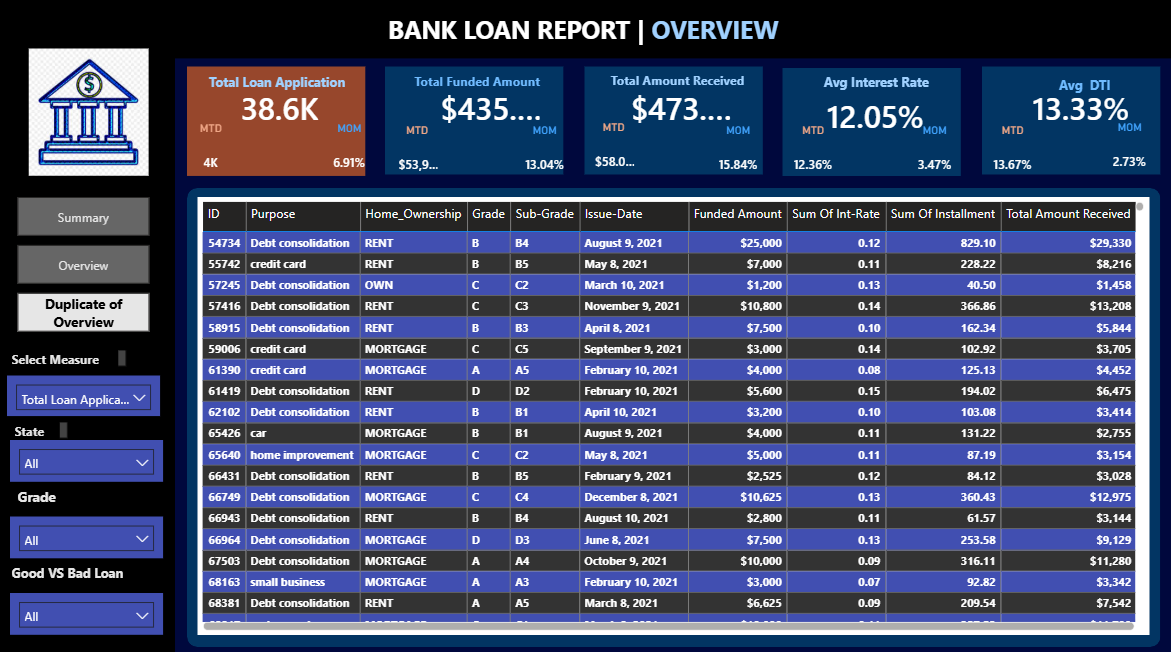

Layout of this report page (visuals, bound fields, positions):
{"tool":"powerbi","page":{"name":"Overview","canvas":[1280,720],"ordinal":1},"visuals":[{"type":"shape","box":[204.9,73.2,193.6,118.7],"z":0},{"type":"shape","box":[0,0,1279.4,54.8],"z":1000},{"type":"shape","box":[0.6,10,1279.4,54.8],"z":2000},{"type":"cardVisual","fields":{"Data":["Financial_Loan_Project.Total Loan Application"]},"box":[215.4,79.4,181.4,75.6],"z":3000},{"type":"shape","box":[0,55.3,191.9,665.3],"z":4000},{"type":"textbox","box":[417.6,9.4,447.9,54.8],"z":5000},{"type":"textbox","box":[207.9,75.6,189,41.6],"z":6000},{"type":"cardVisual","title":"MTD","fields":{"Data":["Financial_Loan_Project.MTD Loan Application"]},"box":[193.6,133.4,74.8,71.6],"z":7000},{"type":"cardVisual","title":"MOM","fields":{"Data":["Financial_Loan_Project.MOM Loan Application"]},"box":[319.4,134.2,124.7,71.8],"z":8000},{"type":"shape","box":[420.5,73.2,193.6,117.1],"z":9000},{"type":"textbox","box":[422.9,74.8,193.6,35.8],"z":10000},{"type":"cardVisual","fields":{"Data":["Financial_Loan_Project.Total Funded Amount"]},"box":[444,79.7,172.4,74.8],"z":11000},{"type":"cardVisual","title":"MTD","fields":{"Data":["Financial_Loan_Project.MTD Funded Amount"]},"box":[403.4,135,102.5,71.6],"z":12000},{"type":"cardVisual","title":"MOM","fields":{"Data":["Financial_Loan_Project.MOM Total Funded Amount"]},"box":[530.3,135,125.2,71.6],"z":13000},{"type":"shape","box":[636,73.2,193.6,117.1],"z":14000},{"type":"textbox","box":[640.9,73.2,191.9,30.9],"z":15000},{"type":"cardVisual","fields":{"Data":["Financial_Loan_Project.Total Amount Received"]},"box":[650.6,79.7,172.4,74.8],"z":16000},{"type":"cardVisual","title":"MTD","fields":{"Data":["Financial_Loan_Project.MTD Total Amount Received"]},"box":[616.5,131.8,102.5,71.6],"z":17000},{"type":"cardVisual","title":"MOM","fields":{"Data":["Financial_Loan_Project.MOM Total Amount Received"]},"box":[740.1,135,125.2,71.6],"z":18000},{"type":"shape","box":[851.5,74.8,193.6,117.1],"z":19000},{"type":"textbox","box":[855.6,74.8,193.6,35.8],"z":20000},{"type":"cardVisual","fields":{"Data":["Financial_Loan_Project.Average Intereset Rate"]},"box":[865.3,87.8,172.4,74.8],"z":21000},{"type":"cardVisual","title":"MTD","fields":{"Data":["Financial_Loan_Project.MTD Avearge Interest Rate"]},"box":[832.8,135,102.5,71.6],"z":22000},{"type":"cardVisual","title":"MOM","fields":{"Data":["Financial_Loan_Project.MOM Avg Int Rate"]},"box":[953.2,135,125.2,71.6],"z":23000},{"type":"shape","box":[1067,73.2,193.6,117.1],"z":24000},{"type":"textbox","box":[1084.9,78.1,187.1,29.3],"z":25000},{"type":"cardVisual","fields":{"Data":["Financial_Loan_Project.Avg DTI"]},"box":[1088.2,79.7,172.4,74.8],"z":26000},{"type":"cardVisual","title":"MTD","fields":{"Data":["Financial_Loan_Project.MTD Avearge DTI"]},"box":[1049.1,135,102.5,71.6],"z":27000},{"type":"cardVisual","title":"MOM","fields":{"Data":["Financial_Loan_Project.MOM AvG DTI"]},"box":[1174.4,131.8,105.7,71.6],"z":28000},{"type":"shape","box":[204.9,203.3,405,235],"z":29000},{"type":"slicer","fields":{"Values":["Financial_Loan_Project.address_state"]},"box":[14.6,479.8,165.9,45.5],"z":30000},{"type":"textbox","box":[14.6,452.2,65.1,27.7],"z":31000},{"type":"slicer","fields":{"Values":["Financial_Loan_Project.grade"]},"box":[13,566,165.9,45.5],"z":32000},{"type":"textbox","box":[14.6,540,63.4,37.4],"z":33000},{"type":"slicer","fields":{"Values":["Financial_Loan_Project.Good VS Bad Loan"]},"box":[13,649,165.9,45.5],"z":34000},{"type":"textbox","box":[13,623,144.8,26],"z":35000},{"type":"areaChart","fields":{"Y":["Financial_Loan_Project.Total Loan Application"],"Category":["Date Table.Month"]},"box":[214.7,206.6,395.3,231],"z":36000},{"type":"slicer","fields":{"Values":["Select Measure.Select Measure"]},"box":[13,393.6,165.9,43.9],"z":37000},{"type":"textbox","box":[14.6,359.5,133.4,27.7],"z":38000},{"type":"shape","box":[629.5,204.9,360,235.8],"z":39000},{"type":"filledMap","fields":{"Category":["Financial_Loan_Project.address_state"]},"box":[640.9,218,341.6,208.2],"z":40000},{"type":"shape","box":[1003.6,206.6,276.5,235.8],"z":41000},{"type":"donutChart","fields":{"Y":["Financial_Loan_Project.Total Loan Application"],"Category":["Financial_Loan_Project.term"]},"box":[1003.6,206.6,276.5,239.1],"z":42000},{"type":"shape","box":[200.1,453.8,405,247.2],"z":43000},{"type":"barChart","fields":{"Y":["Financial_Loan_Project.Total Loan Application"],"Category":["Financial_Loan_Project.emp_length"]},"box":[200.1,453.8,405,247.2],"z":44000},{"type":"shape","box":[631.1,453.8,359.5,247.2],"z":45000},{"type":"barChart","fields":{"Y":["Financial_Loan_Project.Total Loan Application"],"Category":["Financial_Loan_Project.purpose"]},"box":[639.2,453.8,343.2,247.2],"z":46000},{"type":"shape","box":[1003.6,453.8,276.5,247.2],"z":47000},{"type":"treemap","fields":{"Values":["Financial_Loan_Project.Total Loan Application"],"Group":["Financial_Loan_Project.home_ownership"]},"box":[1013.3,460.3,255.4,234.2],"z":48000},{"type":"pageNavigator","box":[24.4,206.6,143.1,131.8],"z":49000},{"type":"image","box":[0,53.7,196.8,138.3],"z":50000}]}

Visuals, with their boxes on the page's 1280x720 design canvas (x1, y1, x2, y2). These are canvas units, not pixel positions in the 1171x652 screenshot, which may show the page scaled, cropped or inside an application window:
shape: [205,73,398,192]
shape: [0,0,1279,55]
shape: [1,10,1280,65]
cardVisual - Financial_Loan_Project.Total Loan Application: [215,79,397,155]
shape: [0,55,192,721]
textbox: [418,9,866,64]
textbox: [208,76,397,117]
"MTD" cardVisual: [194,133,268,205]
"MOM" cardVisual: [319,134,444,206]
shape: [420,73,614,190]
textbox: [423,75,616,111]
cardVisual - Financial_Loan_Project.Total Funded Amount: [444,80,616,154]
"MTD" cardVisual: [403,135,506,207]
"MOM" cardVisual: [530,135,656,207]
shape: [636,73,830,190]
textbox: [641,73,833,104]
cardVisual - Financial_Loan_Project.Total Amount Received: [651,80,823,154]
"MTD" cardVisual: [616,132,719,203]
"MOM" cardVisual: [740,135,865,207]
shape: [852,75,1045,192]
textbox: [856,75,1049,111]
cardVisual - Financial_Loan_Project.Average Intereset Rate: [865,88,1038,163]
"MTD" cardVisual: [833,135,935,207]
"MOM" cardVisual: [953,135,1078,207]
shape: [1067,73,1261,190]
textbox: [1085,78,1272,107]
cardVisual - Financial_Loan_Project.Avg DTI: [1088,80,1261,154]
"MTD" cardVisual: [1049,135,1152,207]
"MOM" cardVisual: [1174,132,1280,203]
shape: [205,203,610,438]
slicer - Financial_Loan_Project.address_state: [15,480,180,525]
textbox: [15,452,80,480]
slicer - Financial_Loan_Project.grade: [13,566,179,612]
textbox: [15,540,78,577]
slicer - Financial_Loan_Project.Good VS Bad Loan: [13,649,179,694]
textbox: [13,623,158,649]
areaChart - Financial_Loan_Project.Total Loan Application x Date Table.Month: [215,207,610,438]
slicer - Select Measure.Select Measure: [13,394,179,438]
textbox: [15,360,148,387]
shape: [630,205,990,441]
filledMap - Financial_Loan_Project.address_state: [641,218,982,426]
shape: [1004,207,1280,442]
donutChart - Financial_Loan_Project.Total Loan Application x Financial_Loan_Project.term: [1004,207,1280,446]
shape: [200,454,605,701]
barChart - Financial_Loan_Project.Total Loan Application x Financial_Loan_Project.emp_length: [200,454,605,701]
shape: [631,454,991,701]
barChart - Financial_Loan_Project.Total Loan Application x Financial_Loan_Project.purpose: [639,454,982,701]
shape: [1004,454,1280,701]
treemap - Financial_Loan_Project.Total Loan Application x Financial_Loan_Project.home_ownership: [1013,460,1269,694]
pageNavigator: [24,207,168,338]
image: [0,54,197,192]
